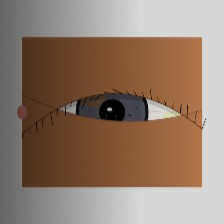pinguecula_lesion: (153, 100, 192, 131)
